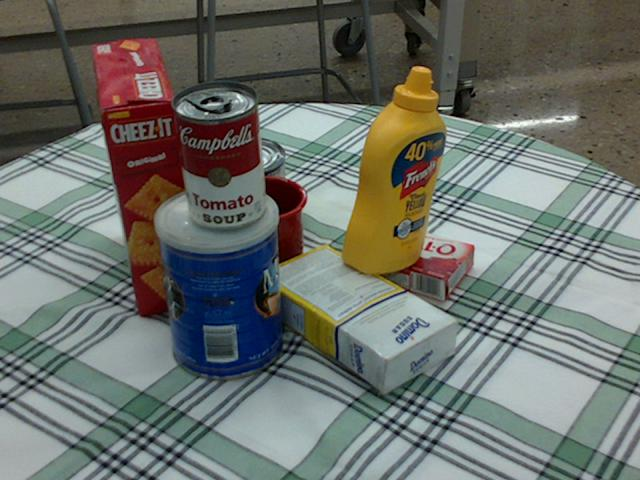cracker_box: (92, 41, 202, 313)
gelatin_box: (364, 225, 473, 302)
master_chef_can: (152, 183, 285, 380)
mug: (195, 175, 305, 283)
mustard_bottle: (342, 66, 445, 273)
potted_meat_can: (179, 154, 296, 242)
sugar_box: (256, 244, 460, 390)
tomato_soup_can: (171, 79, 264, 228)
tuna_fish_can: (204, 136, 285, 200)
